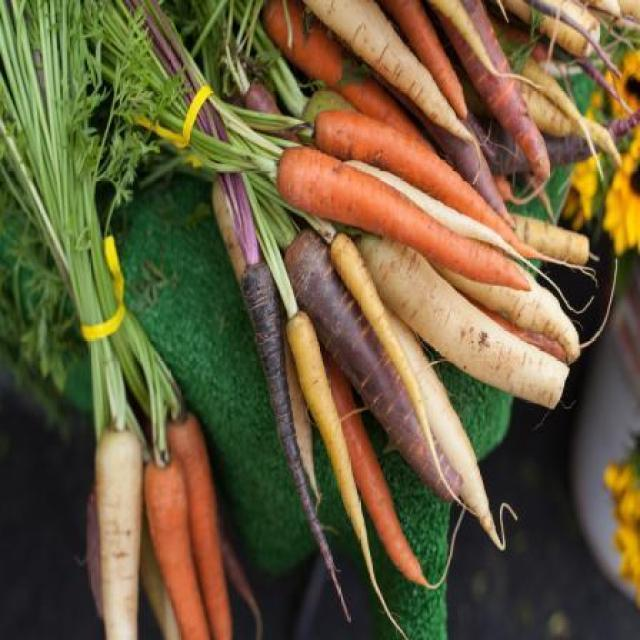Carrot: (313, 112, 600, 284), (278, 145, 530, 291), (324, 356, 464, 596), (261, 0, 438, 154), (164, 408, 236, 639), (148, 460, 211, 640)
